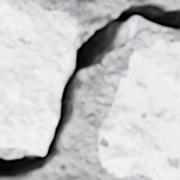brick: (97, 28, 179, 179), (0, 0, 77, 153), (127, 24, 135, 39)
crack: (0, 1, 179, 178)
